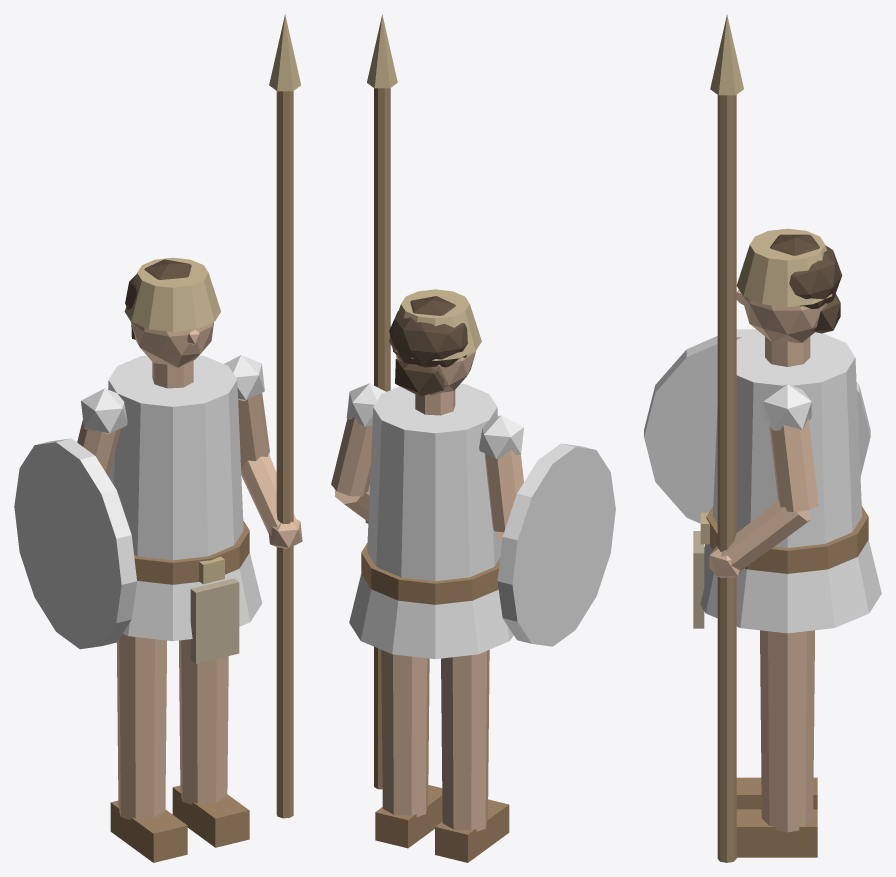
Rendered from civ_unit_spearman.glb.
The picture shows the model from 3 angles, left to right: view 1: azimuth 30°, elevation 25°; view 2: azimuth 150°, elevation 25°; view 3: azimuth 270°, elevation 25°; orthographic projection. The views are drawn at different scales.
Parts seen in each view (by area): view 1: civ_unit_spearman; view 2: civ_unit_spearman; view 3: civ_unit_spearman.
Part boxes in pixels (x1,y1,x2,y2): civ_unit_spearman: (14, 14, 302, 862); civ_unit_spearman: (331, 14, 615, 862); civ_unit_spearman: (644, 14, 881, 862).
Size of the model in its own units: 0.7075 by 2.52 by 0.63.
